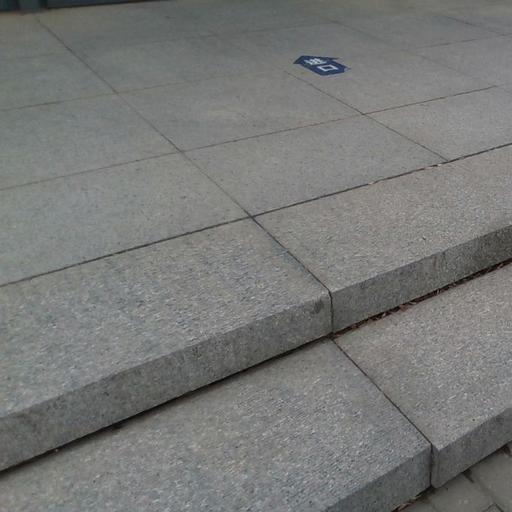stairs: (0, 147, 511, 511)
